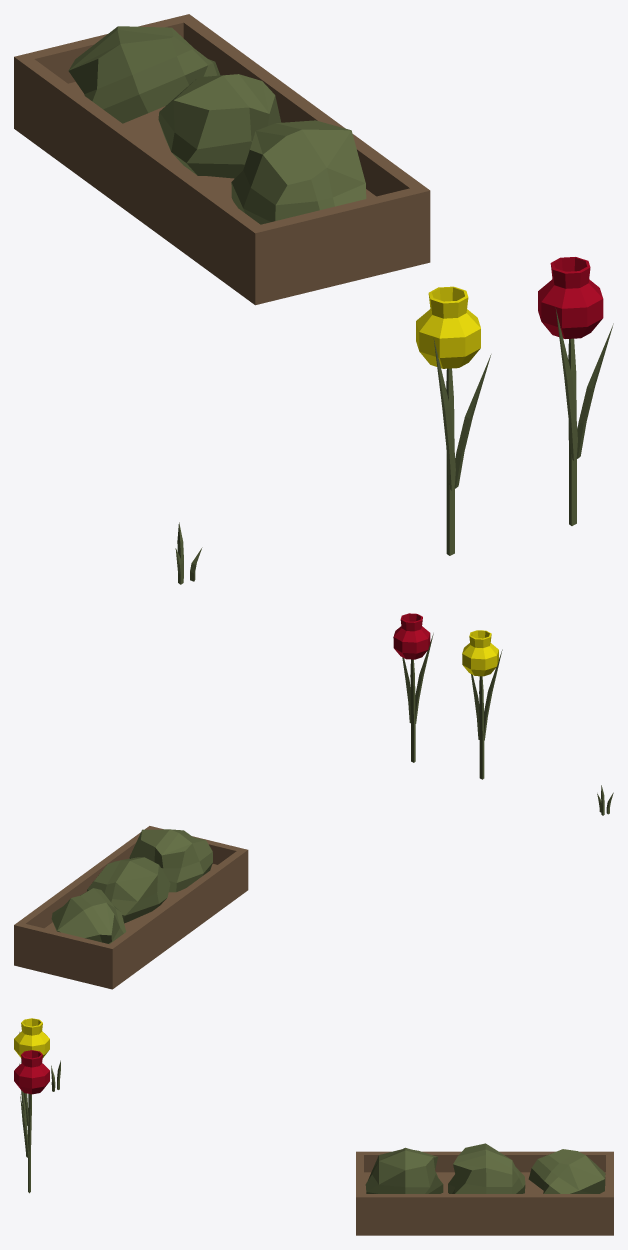
The model's file is plant.fbx.
3 views of the same model, one above another, from view 1: azimuth 30°, elevation 25°; view 2: azimuth 150°, elevation 25°; view 3: azimuth 270°, elevation 25° (orthographic). The views are drawn at different scales.
Visible parts, largest first — view 1: plant, rose1, rose; view 2: plant, rose1, rose; view 3: plant, rose, rose1.
Part boxes in pixels (left/top/right/bottom): plant: left=14, top=14, right=430, bottom=305; rose1: left=416, top=286, right=491, bottom=555; rose: left=538, top=257, right=613, bottom=525; plant: left=14, top=826, right=248, bottom=989; rose1: left=462, top=630, right=502, bottom=779; rose: left=393, top=613, right=433, bottom=762; plant: left=356, top=1143, right=613, bottom=1235; rose: left=14, top=1050, right=49, bottom=1193; rose1: left=14, top=1018, right=49, bottom=1138.
Bounding box in the file's own units: 306 × 141 × 552.
